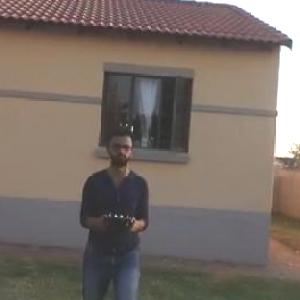follow: (80, 123, 162, 299)
